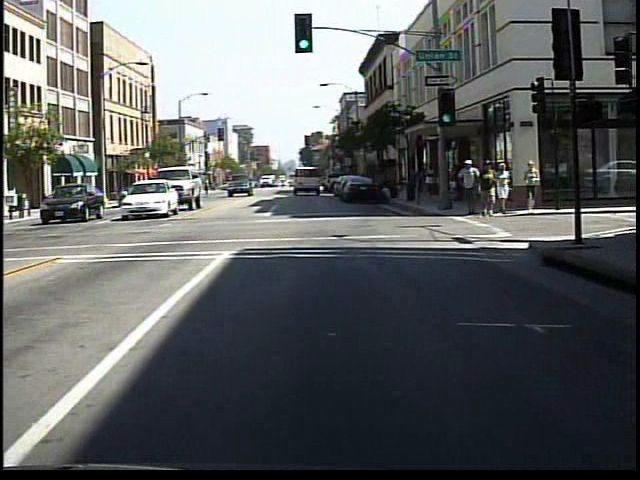person: (477, 157, 502, 220), (459, 158, 483, 218), (521, 157, 543, 216), (497, 160, 514, 217), (423, 159, 442, 206), (200, 174, 218, 202)
